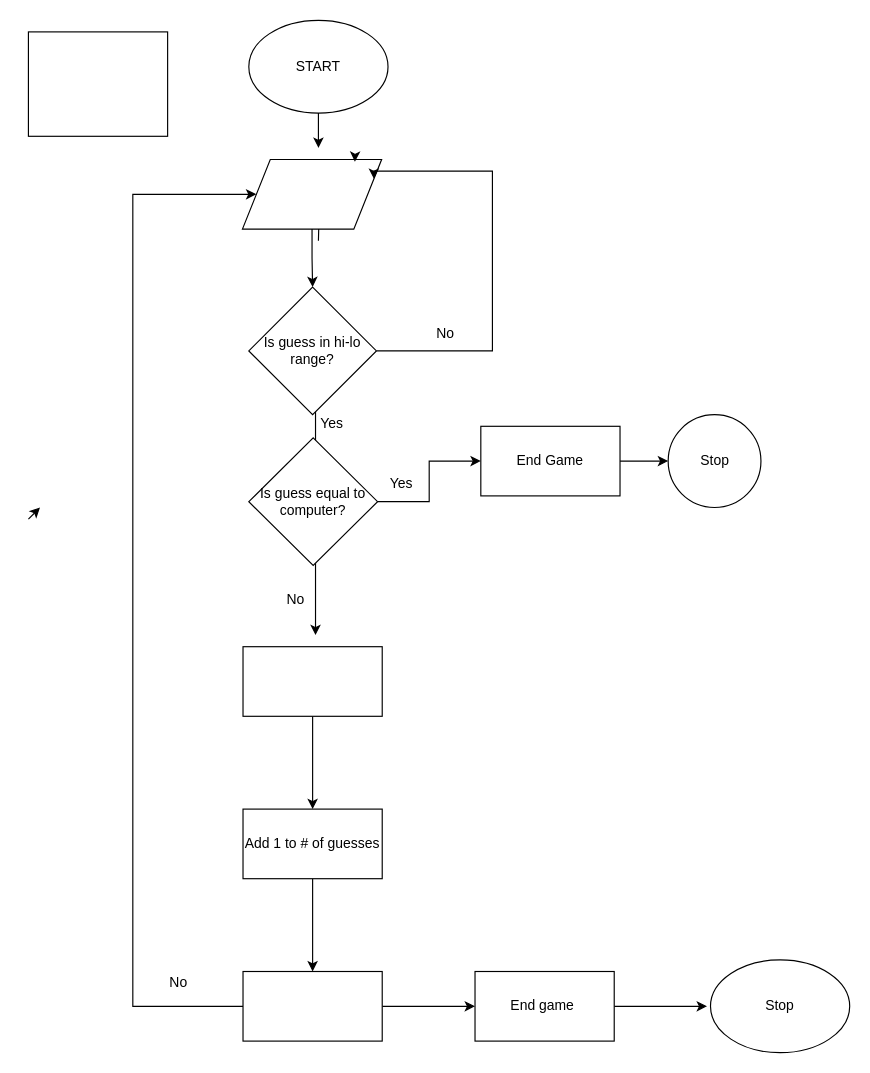
The diagram is 870 pixels wide and 1073 high, and some of its shapes have lost their labels. Each missing label, with the centre of its shape:
# of Guesses = to or >20: (312,1005)
# of guesses:: (97,83)
Adjust Range: (312,681)
Enter Guess: (311,193)
